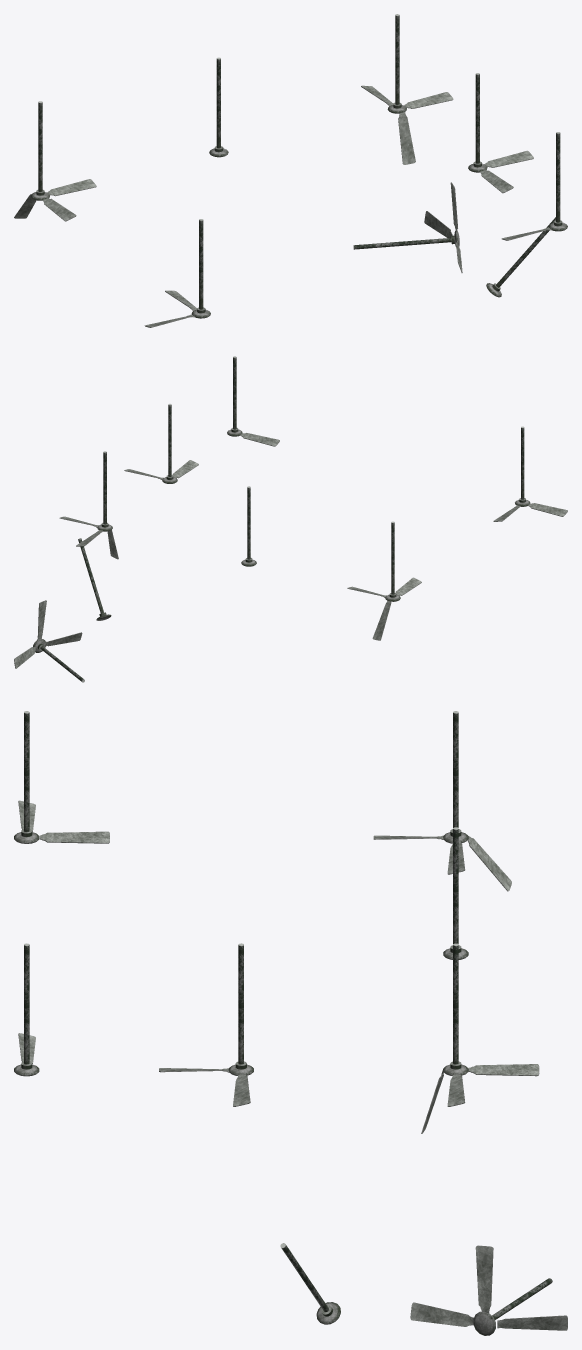
The model's file is cajonesOF.glb.
The picture shows the model from 3 angles, top to bottom: view 1: azimuth 30°, elevation 25°; view 2: azimuth 150°, elevation 25°; view 3: azimuth 270°, elevation 25°; orthographic projection. The views are drawn at different scales.
Visible parts, largest first — view 1: pCube100_lambert7_0.002; view 2: pCube100_lambert7_0.002; view 3: pCube100_lambert7_0.002.
Part boxes in pixels (x1,y1,x2,y2): pCube100_lambert7_0.002: [14, 14, 567, 327]; pCube100_lambert7_0.002: [14, 356, 567, 682]; pCube100_lambert7_0.002: [14, 711, 567, 1335].
Bounding box in the file's own units: 2.49 × 1.21 × 1.76.
Materials: 1 (1 with a texture image).
